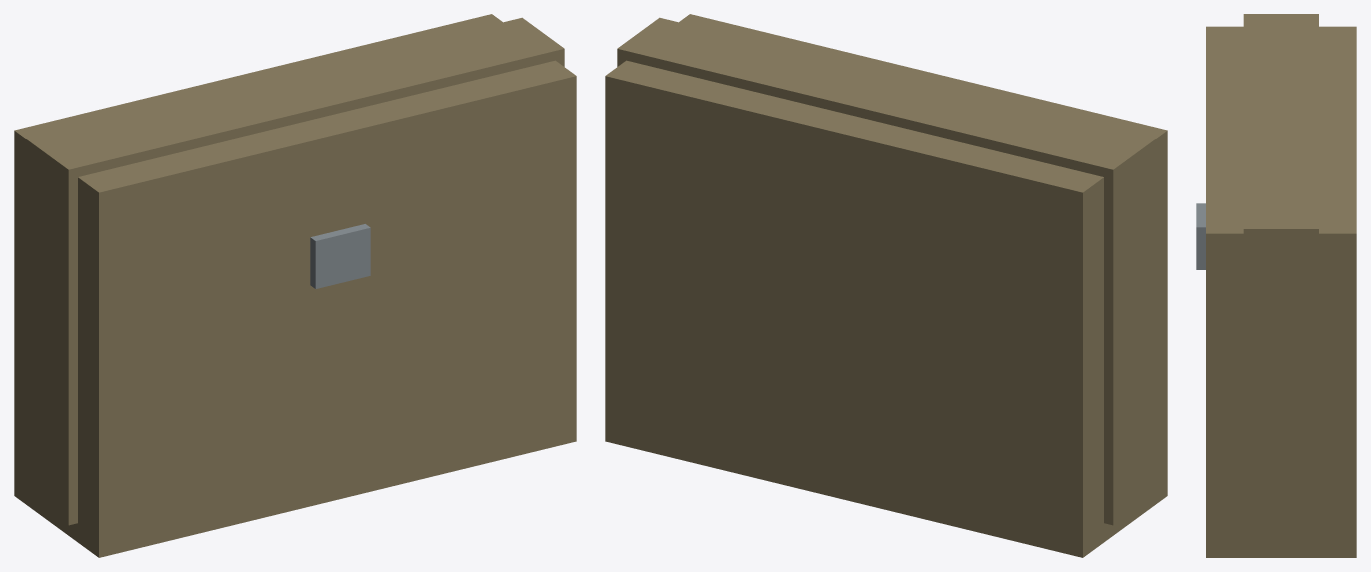
The model's file is ammo_satchel.glb.
The picture shows the model from 3 angles, left to right: view 1: azimuth 30°, elevation 25°; view 2: azimuth 150°, elevation 25°; view 3: azimuth 270°, elevation 25°; orthographic projection. The views are drawn at different scales.
Parts seen in each view (by area): view 1: ammo_satchel:compound; view 2: ammo_satchel:compound; view 3: ammo_satchel:compound.
Part boxes in pixels (x1,y1,x2,y2): ammo_satchel:compound: (14, 14, 576, 557); ammo_satchel:compound: (605, 14, 1167, 557); ammo_satchel:compound: (1196, 14, 1356, 557).
Size of the model in its own units: 0.216 by 0.156 by 0.068.
